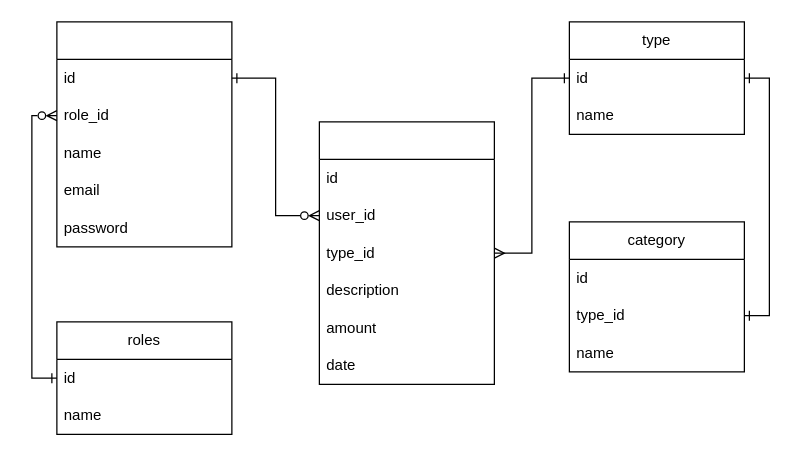
Image size: 803x456. Some labels were removed from this diagram. The shapes that lost their labels are listed below. From the top down, each one's box as (x1, y1, x2, y2) in pixels, then its label:
(56, 21, 232, 247): users
(318, 121, 494, 384): transactions
